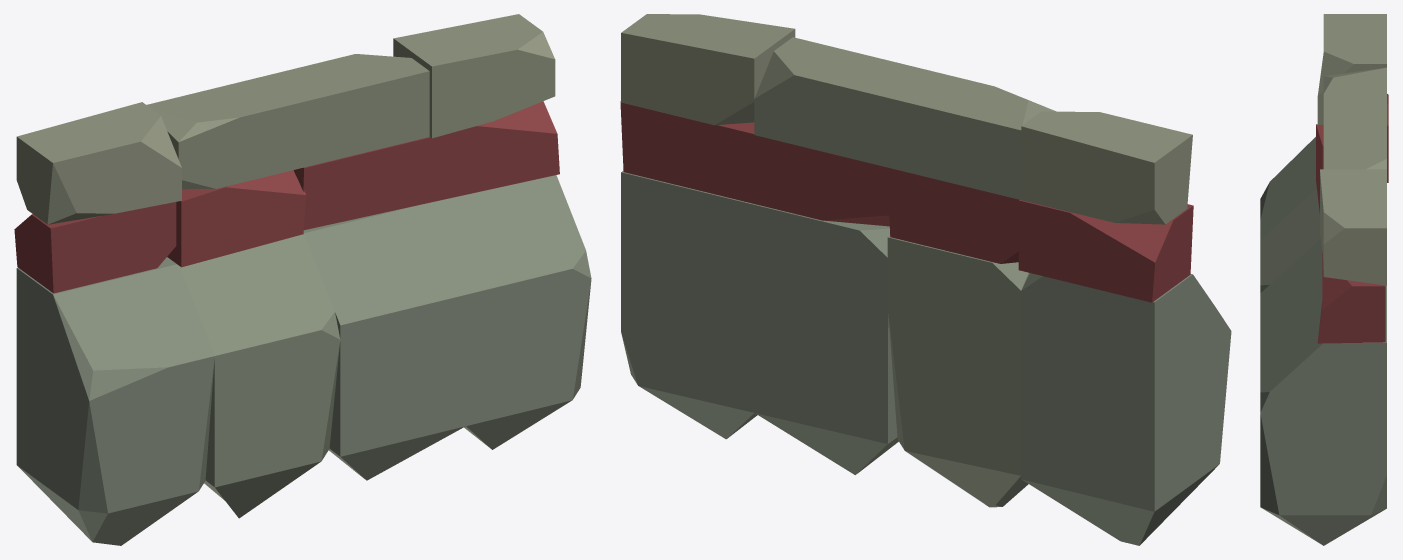
File: railing_double.fbx
3 renders of one model, left to right at view 1: azimuth 30°, elevation 25°; view 2: azimuth 150°, elevation 25°; view 3: azimuth 270°, elevation 25°, orthographic. The views are drawn at different scales.
Visible parts, largest first — view 1: railing_double; view 2: railing_double; view 3: railing_double.
Part boxes in pixels (bbox=[...]): railing_double: bbox=[14, 14, 591, 545]; railing_double: bbox=[620, 14, 1231, 545]; railing_double: bbox=[1260, 14, 1388, 545].
Size of the model in its own units: 201 by 154 by 50.58.
